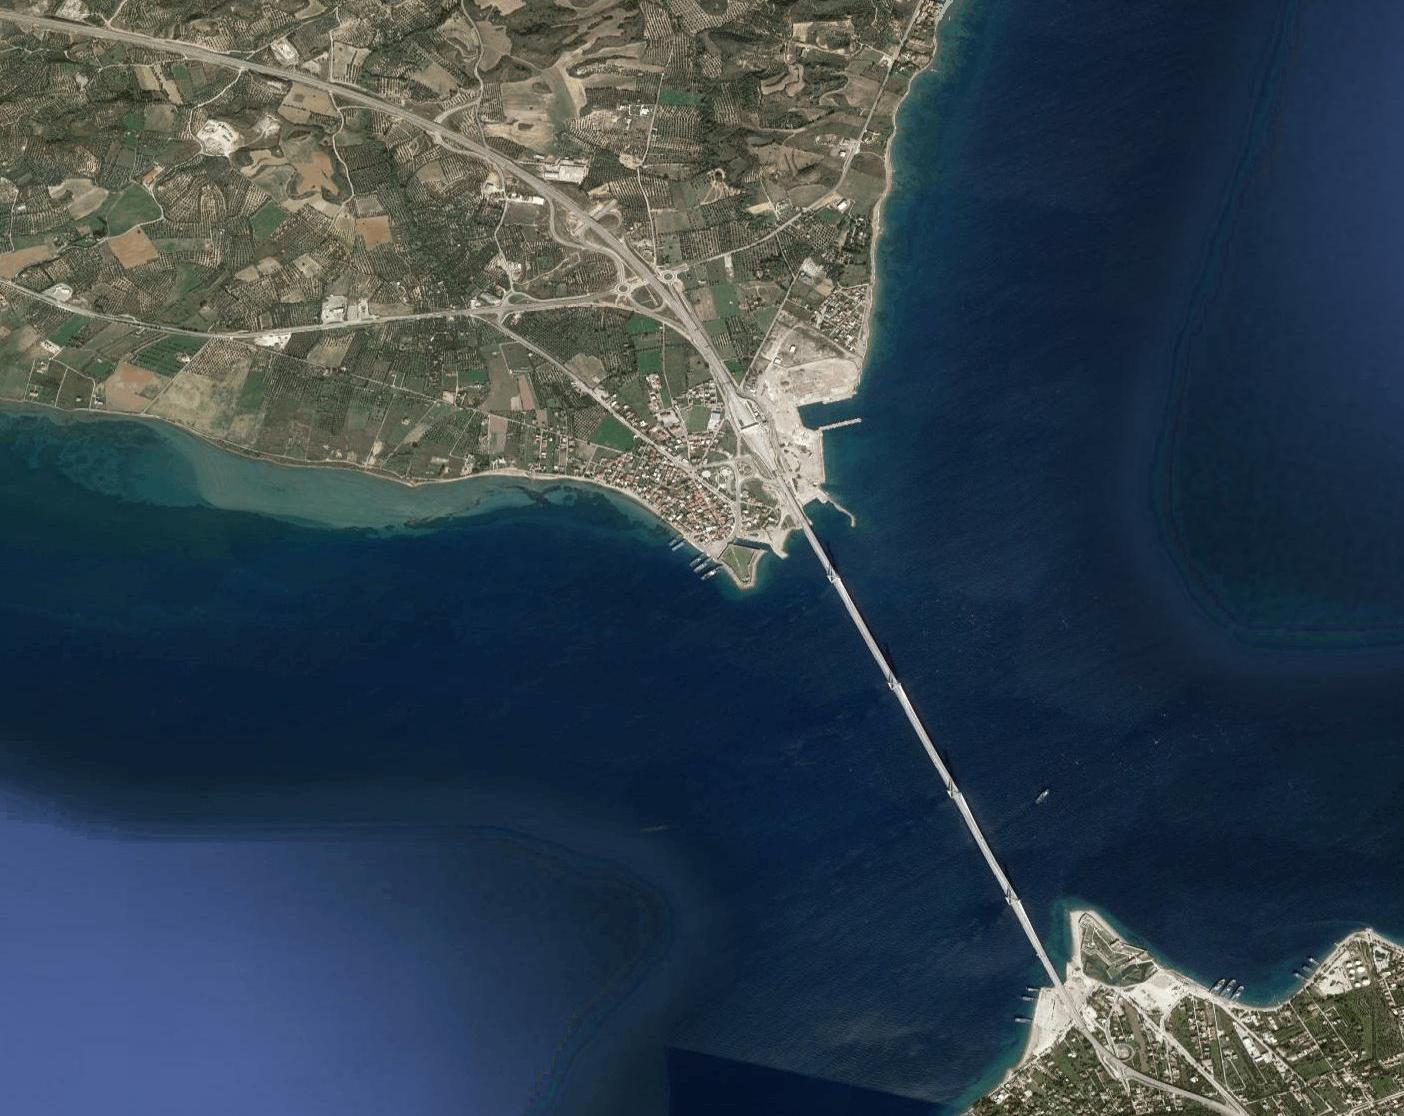bridge: (797, 510, 1063, 983)
motorway: (537, 181, 678, 306), (364, 93, 536, 184), (977, 842, 1064, 988), (669, 300, 756, 431), (754, 430, 832, 564), (826, 570, 904, 704), (901, 707, 979, 841), (182, 44, 362, 98), (1, 3, 178, 50)
